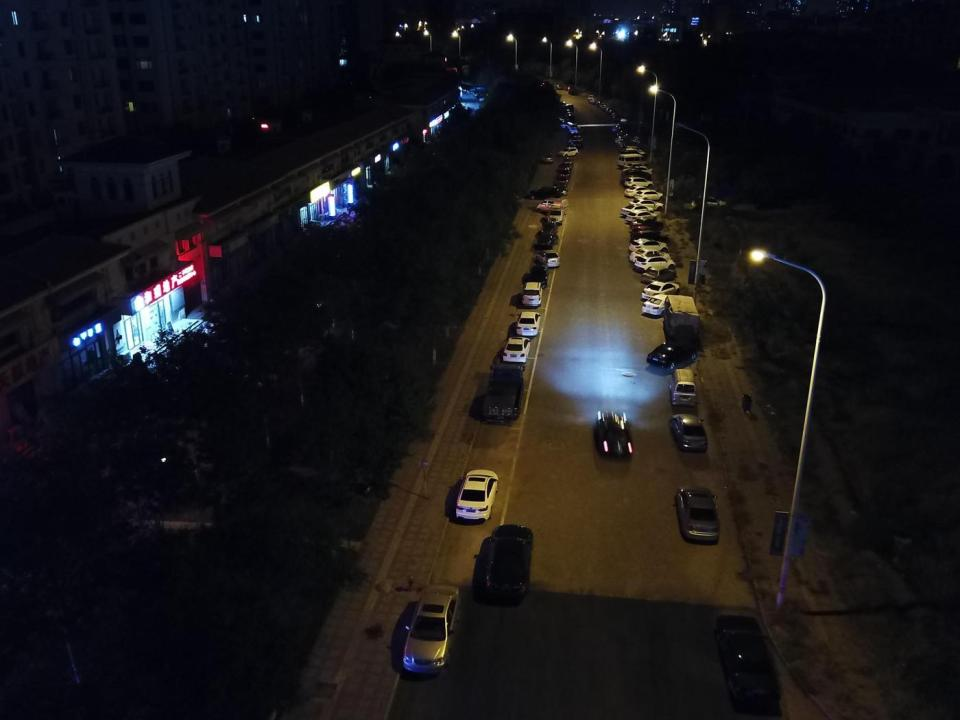car: (712, 610, 782, 710), (401, 583, 461, 677), (480, 524, 533, 602), (672, 484, 720, 545), (452, 468, 496, 522), (592, 413, 635, 454), (646, 337, 697, 369), (670, 412, 708, 454), (499, 334, 532, 361), (641, 294, 678, 318), (628, 248, 672, 266), (642, 280, 681, 300), (634, 254, 674, 273), (514, 311, 540, 337), (690, 192, 727, 210), (640, 266, 676, 284), (532, 229, 561, 251), (521, 282, 545, 308), (627, 239, 669, 253), (636, 231, 670, 247), (528, 262, 550, 286), (629, 198, 664, 213), (535, 248, 561, 268), (526, 186, 562, 200), (631, 218, 664, 232), (630, 226, 660, 241), (621, 204, 655, 217), (625, 211, 658, 224), (634, 189, 664, 202), (624, 186, 658, 197), (547, 205, 565, 225), (624, 177, 654, 189), (625, 162, 650, 174), (624, 167, 654, 177), (620, 175, 650, 185), (621, 145, 645, 156), (622, 148, 646, 159), (540, 221, 560, 234), (624, 170, 650, 180), (620, 151, 645, 161), (559, 146, 578, 158), (617, 139, 641, 148), (554, 180, 569, 194), (614, 135, 640, 143), (618, 142, 642, 150), (568, 140, 584, 150), (558, 170, 571, 182), (538, 79, 551, 90), (542, 152, 554, 163), (567, 85, 580, 95), (560, 163, 572, 173), (569, 136, 584, 144), (616, 130, 636, 136), (618, 132, 638, 138), (562, 103, 575, 112), (568, 132, 581, 140), (569, 126, 582, 134), (559, 122, 572, 130), (563, 157, 575, 165), (617, 125, 633, 130), (596, 99, 606, 106), (620, 117, 630, 124), (566, 114, 574, 122), (565, 109, 573, 117), (558, 99, 567, 106), (555, 83, 563, 90), (588, 98, 597, 104), (609, 112, 618, 118), (565, 112, 574, 117), (600, 102, 608, 107), (588, 94, 594, 100), (604, 107, 612, 111), (609, 110, 617, 114), (603, 104, 609, 109)
truck: (482, 358, 527, 426), (661, 295, 701, 343)
van: (670, 368, 699, 408), (536, 197, 570, 214), (615, 154, 649, 169)
